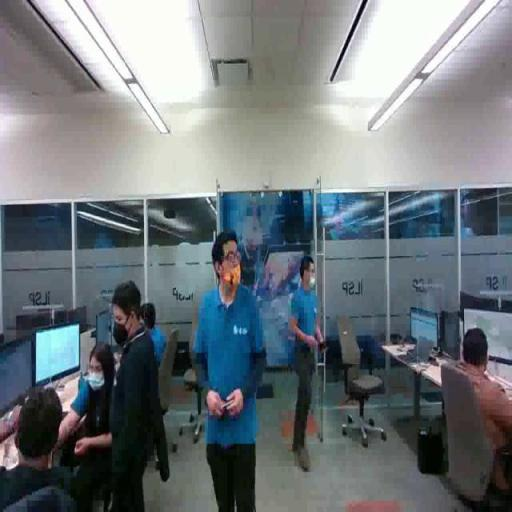person: (192, 222, 269, 512), (445, 325, 512, 512), (58, 342, 130, 512), (110, 284, 157, 512), (1, 386, 82, 512), (288, 253, 330, 479)
